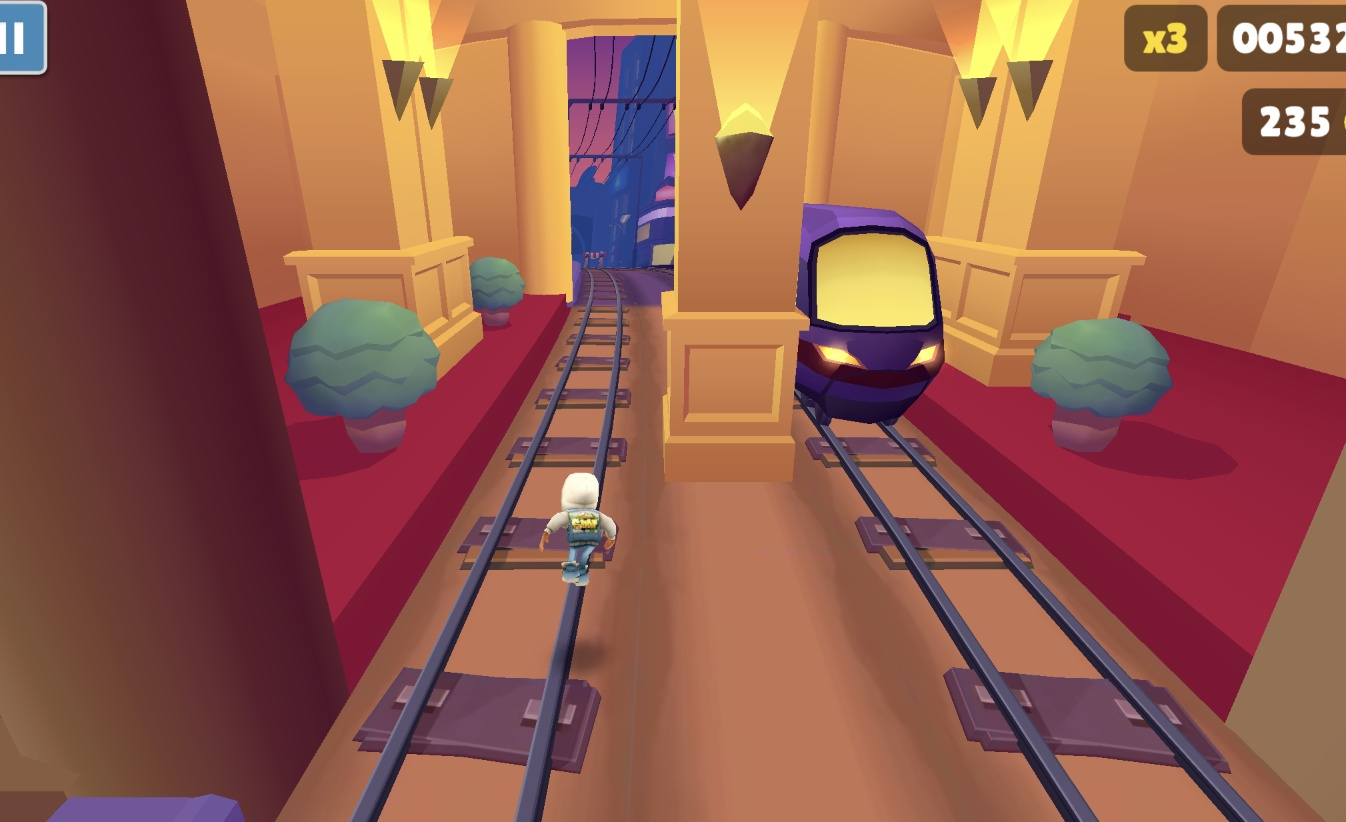ground_barrier: (576, 260, 600, 284)
pillar: (664, 0, 820, 484)
train: (796, 204, 946, 428)
